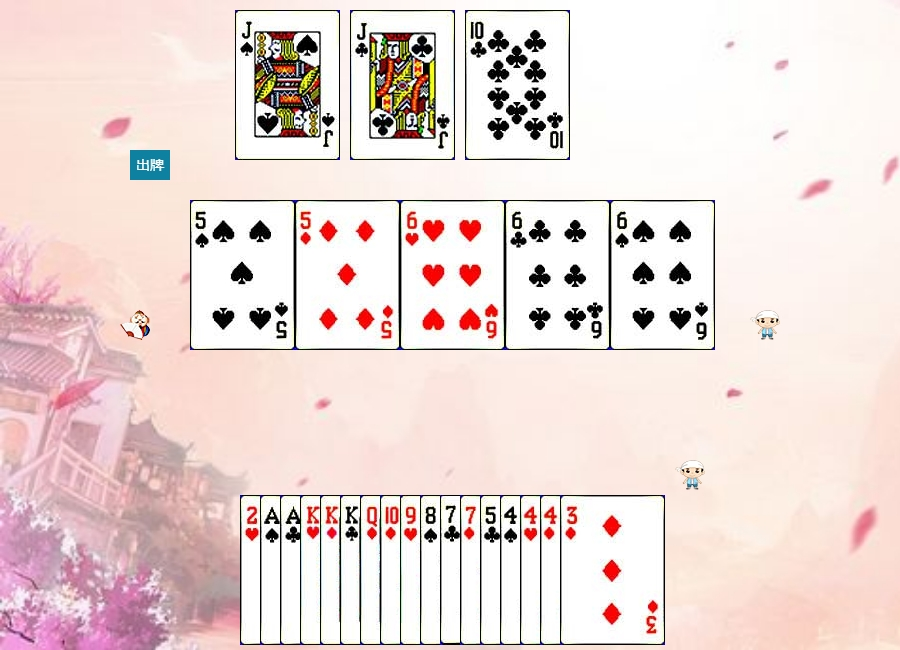10~1: (380, 495, 485, 645)
10~2: (465, 10, 570, 160)
11~2: (350, 10, 455, 160)
11~4: (235, 10, 340, 160)
12~1: (360, 495, 465, 645)
13~1: (320, 495, 425, 645)
13~2: (340, 495, 445, 645)
13~3: (300, 495, 405, 645)
14~2: (280, 495, 385, 645)
14~4: (260, 495, 365, 645)
15~3: (240, 495, 345, 645)
3~1: (560, 495, 665, 645)
4~1: (540, 495, 645, 645)
4~3: (520, 495, 625, 645)
4~4: (500, 495, 605, 645)
5~1: (295, 200, 400, 350)
5~2: (480, 495, 585, 645)
5~4: (190, 200, 295, 350)
6~2: (505, 200, 610, 350)
6~3: (400, 200, 505, 350)
6~4: (610, 200, 715, 350)
7~1: (460, 495, 565, 645)
7~2: (440, 495, 545, 645)
8~4: (420, 495, 525, 645)
9~3: (400, 495, 505, 645)
